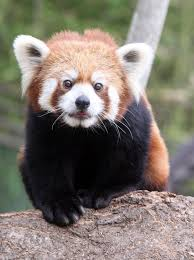redPanda: (10, 25, 166, 233)
